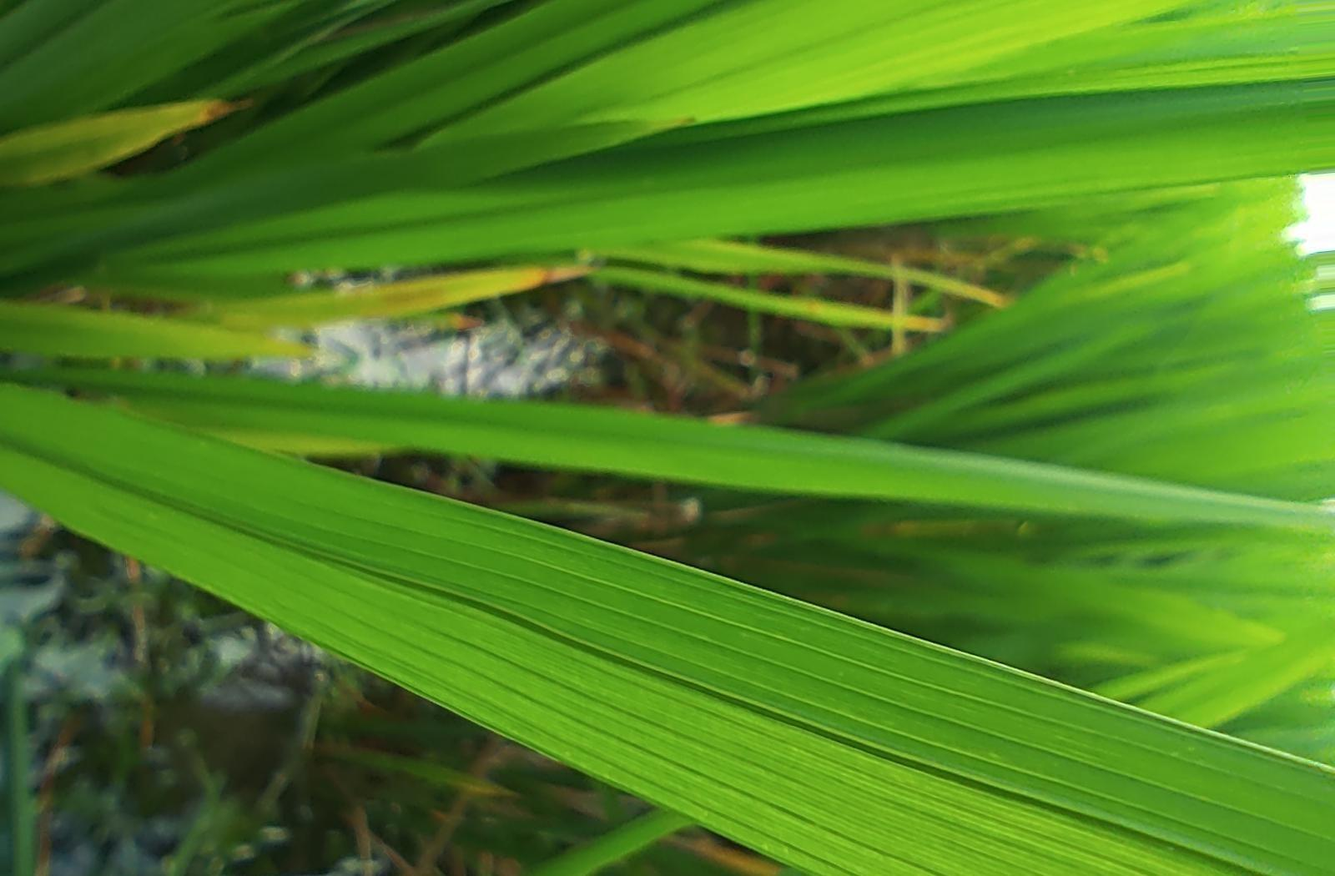Healthy: (0, 385, 1334, 875)
